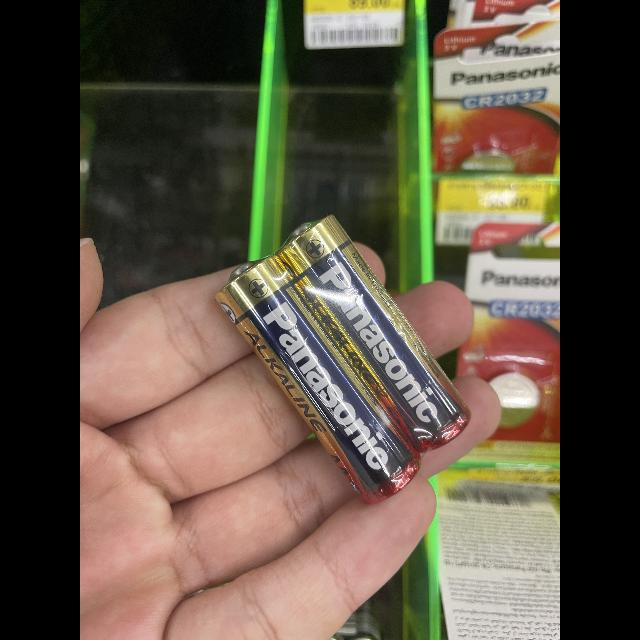battery: (210, 250, 431, 523), (438, 0, 560, 430), (280, 211, 478, 453)
